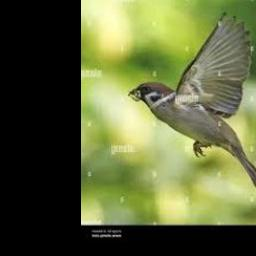Sparrow: (129, 13, 256, 187)
